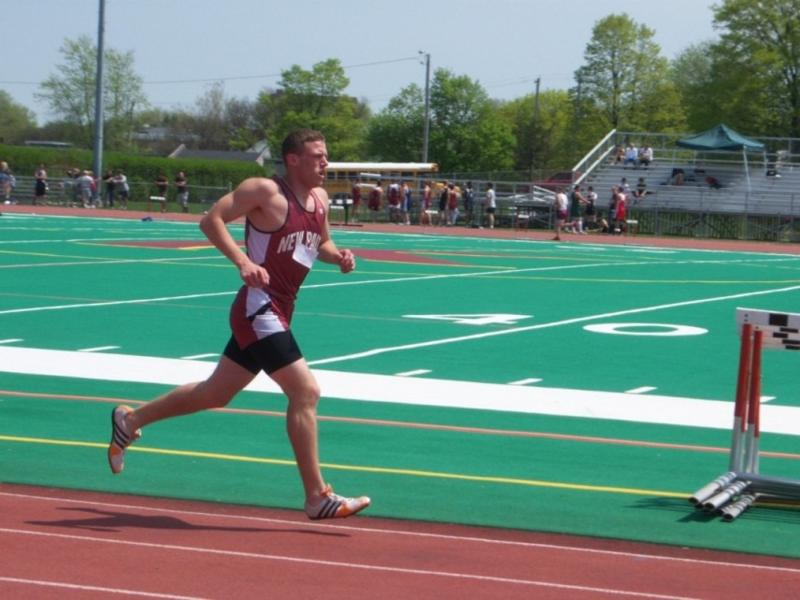person: (107, 129, 374, 522)
